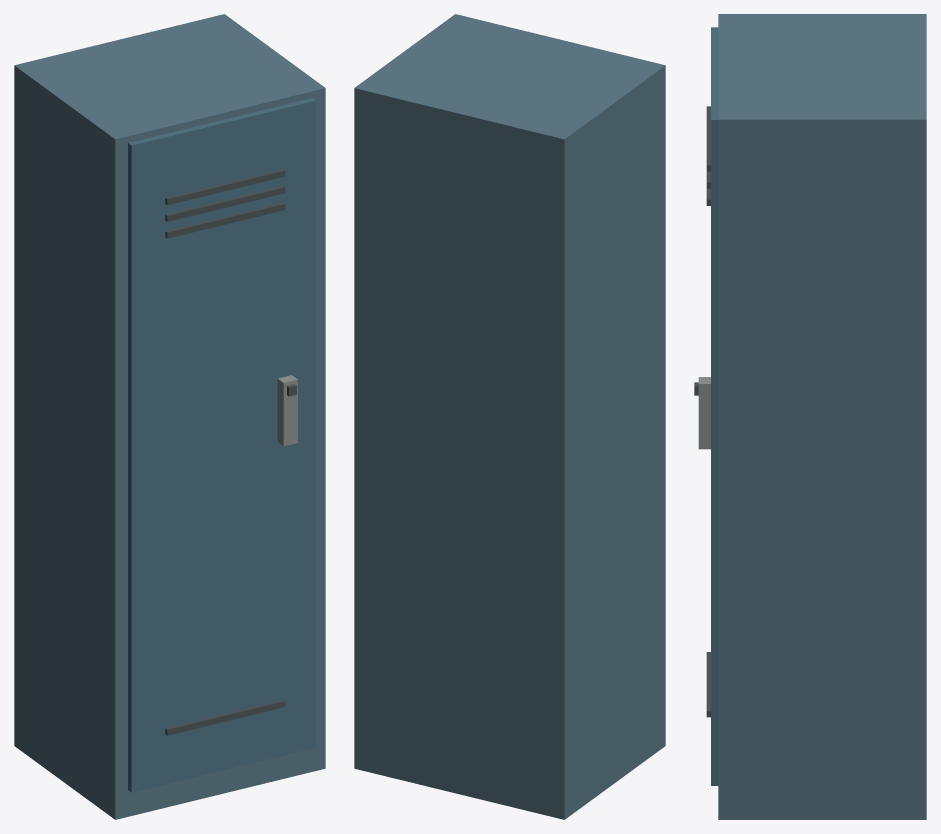
The model's file is locker.glb.
3 views of the same model, side by side, from view 1: azimuth 30°, elevation 25°; view 2: azimuth 150°, elevation 25°; view 3: azimuth 270°, elevation 25° (orthographic). The views are drawn at different scales.
Visible parts, largest first — view 1: locker_Blue, locker_Locker, locker_Steel, locker_SteelEdge; view 2: locker_Locker; view 3: locker_Locker, locker_Blue, locker_SteelEdge, locker_Steel.
Boxes of the visible parts, bbox=[...] form: locker_Blue: bbox=[128, 98, 316, 792]; locker_Locker: bbox=[14, 14, 325, 819]; locker_Steel: bbox=[165, 169, 285, 735]; locker_SteelEdge: bbox=[277, 375, 297, 446]; locker_Locker: bbox=[354, 14, 665, 819]; locker_Locker: bbox=[718, 14, 926, 819]; locker_Blue: bbox=[711, 27, 718, 785]; locker_SteelEdge: bbox=[698, 377, 710, 449]; locker_Steel: bbox=[706, 106, 710, 717].
Bounding box in the file's own units: 0.66 × 2.04 × 0.614.
